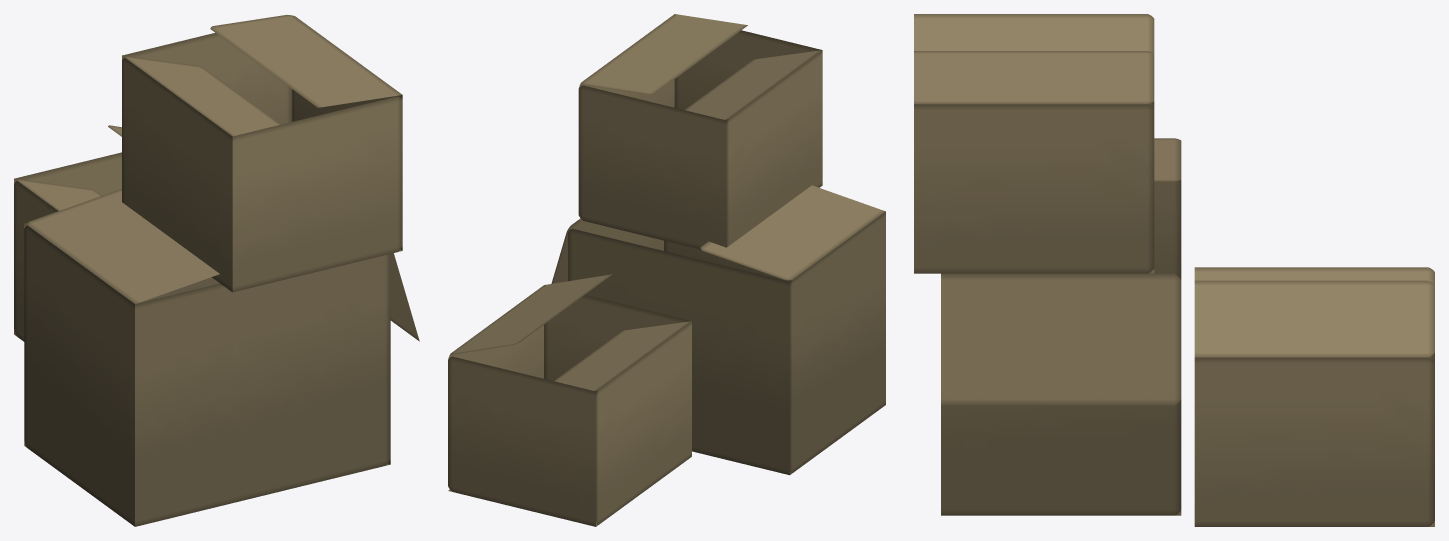
Rendered from cardboard_boxes3.obj.
The picture shows the model from 3 angles, left to right: view 1: azimuth 30°, elevation 25°; view 2: azimuth 150°, elevation 25°; view 3: azimuth 270°, elevation 25°; orthographic projection. The views are drawn at different scales.
Visible parts, largest first — view 1: baseModel2, baseModel18, baseModel0, baseModel14, baseModel6, baseModel17, baseModel16, baseModel15, baseModel7, baseModel8, baseModel13, baseModel5 (+1 smaller); view 2: baseModel1, baseModel8, baseModel16, baseModel0, baseModel7, baseModel14, baseModel6, baseModel17, baseModel9, baseModel12, baseModel18, baseModel13 (+5 smaller); view 3: baseModel10, baseModel19, baseModel5, baseModel3, baseModel12, baseModel17, baseModel15, baseModel13, baseModel0, baseModel6.
Part boxes in pixels (box(x1,y1,x2,y2)): baseModel2: box(135, 254, 390, 526); baseModel18: box(232, 96, 402, 292); baseModel0: box(24, 225, 134, 526); baseModel14: box(122, 58, 232, 292); baseModel6: box(27, 189, 219, 303); baseModel17: box(210, 15, 402, 107); baseModel16: box(122, 33, 292, 124); baseModel15: box(125, 56, 280, 136); baseModel7: box(14, 181, 58, 341); baseModel8: box(14, 152, 121, 334); baseModel13: box(17, 179, 101, 210); baseModel5: box(390, 253, 419, 341); baseModel1: box(568, 228, 789, 475); baseModel8: box(448, 356, 595, 526); baseModel16: box(578, 85, 726, 249); baseModel0: box(790, 211, 885, 473); baseModel7: box(596, 321, 691, 524); baseModel14: box(726, 50, 822, 247); baseModel6: box(700, 185, 885, 280); baseModel17: box(581, 14, 747, 94); baseModel9: box(544, 295, 691, 395); baseModel12: box(450, 274, 612, 354); baseModel18: box(674, 30, 821, 123); baseModel13: box(554, 321, 691, 390); baseModel10: box(1194, 357, 1434, 526); baseModel19: box(914, 104, 1154, 273); baseModel5: box(941, 273, 1181, 405); baseModel3: box(941, 275, 1181, 515); baseModel12: box(1194, 280, 1434, 357); baseModel17: box(914, 51, 1154, 104); baseModel15: box(914, 14, 1154, 53); baseModel13: box(1194, 267, 1434, 285); baseModel0: box(1154, 180, 1181, 279); baseModel6: box(1154, 138, 1181, 181).
Bounding box in the file's own units: 0.8361 × 1.08 × 1.22.
1 material, 1 textured.
